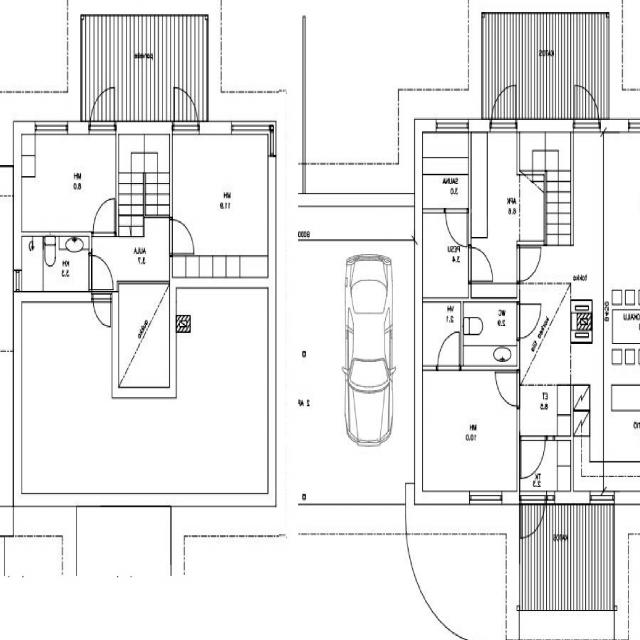door: (521, 491, 546, 542), (575, 81, 599, 132), (492, 82, 516, 132), (175, 83, 198, 133), (91, 83, 114, 133), (522, 435, 546, 478), (468, 246, 494, 282), (517, 304, 542, 339), (170, 219, 195, 254), (438, 332, 460, 370), (94, 198, 115, 237), (496, 372, 520, 406), (90, 255, 114, 289), (517, 248, 541, 281), (446, 207, 466, 246), (94, 291, 111, 330)
